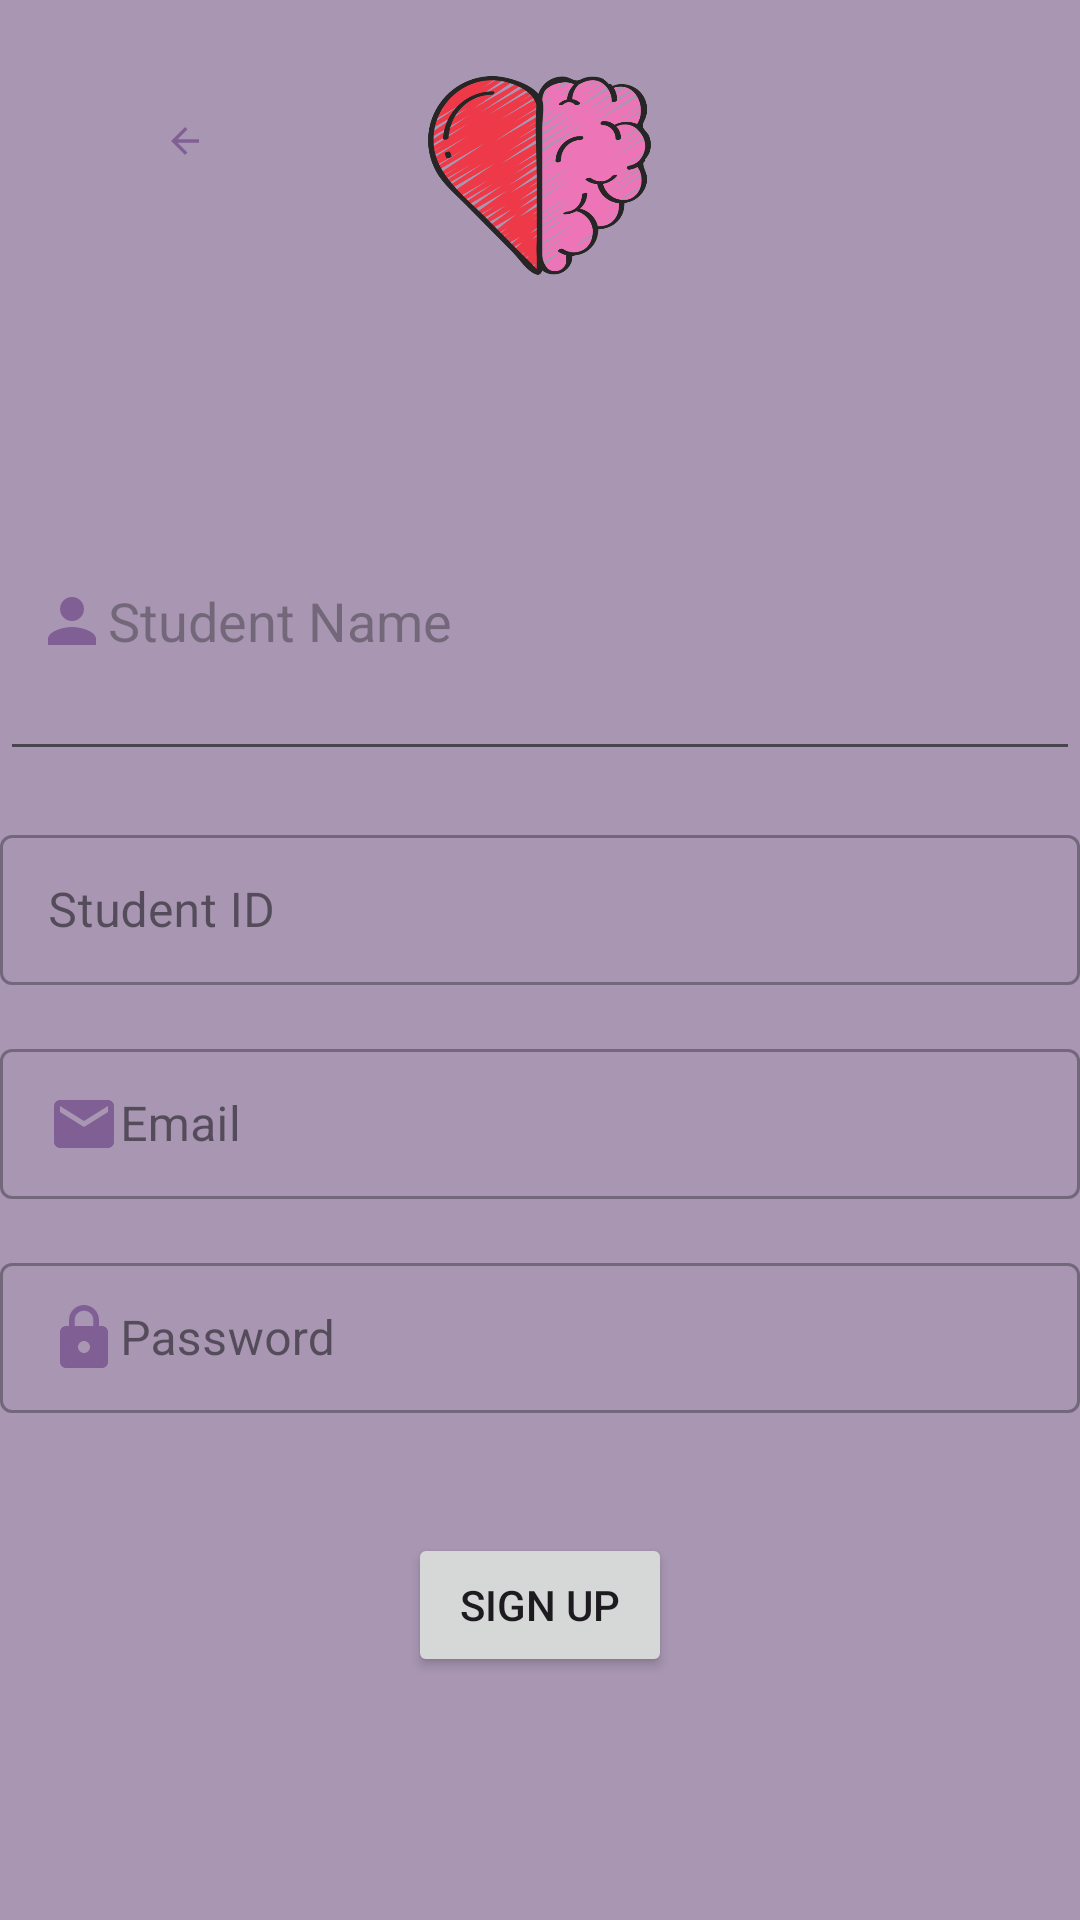

Named icons in this screenshot (1080 × 1920) and their bounding boxes, BBox(x1, y1, x2, y2):
back: BBox(172, 127, 199, 154)
heart: BBox(428, 76, 651, 275)
